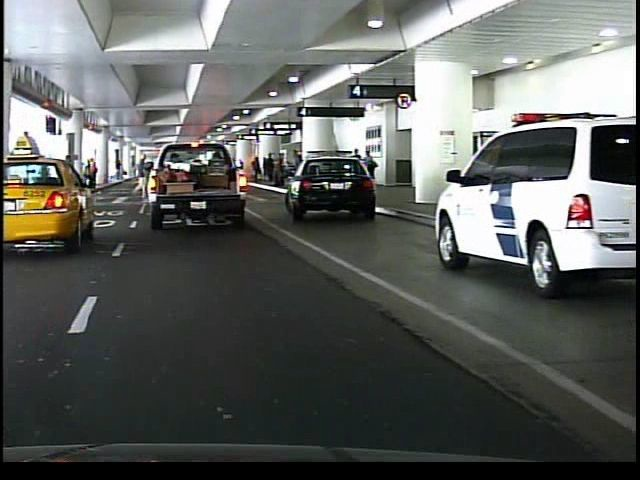person: (126, 151, 147, 202)
